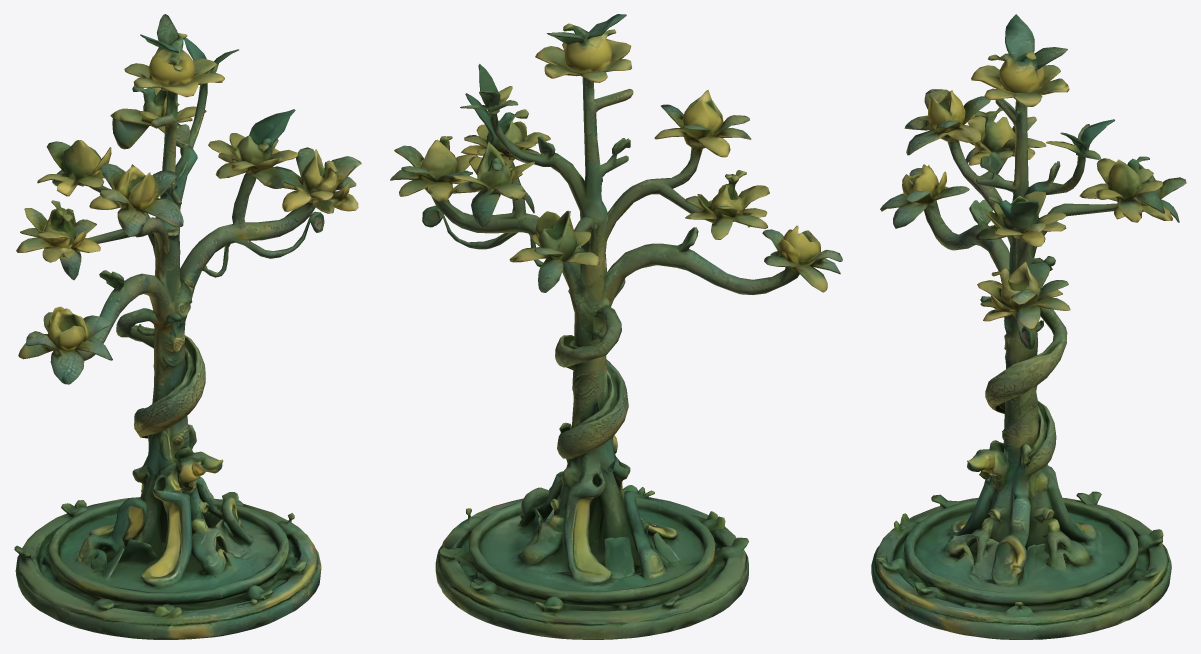
File: s_tree.glb
The picture shows the model from 3 angles, left to right: view 1: azimuth 30°, elevation 25°; view 2: azimuth 150°, elevation 25°; view 3: azimuth 270°, elevation 25°; orthographic projection. The views are drawn at different scales.
Parts seen in each view (by area): view 1: tripo_node_06a83f6d-4b3f-4f1c-a72e-53ae970ba226; view 2: tripo_node_06a83f6d-4b3f-4f1c-a72e-53ae970ba226; view 3: tripo_node_06a83f6d-4b3f-4f1c-a72e-53ae970ba226.
Boxes of the visible parts, box(x1,y1,x2,y2) form: tripo_node_06a83f6d-4b3f-4f1c-a72e-53ae970ba226: box(14, 14, 361, 639); tripo_node_06a83f6d-4b3f-4f1c-a72e-53ae970ba226: box(390, 14, 842, 639); tripo_node_06a83f6d-4b3f-4f1c-a72e-53ae970ba226: box(871, 14, 1186, 639).
Bounding box in the file's own units: 0.7297 × 1 × 0.5214.
Materials: 1 (1 with a texture image).
